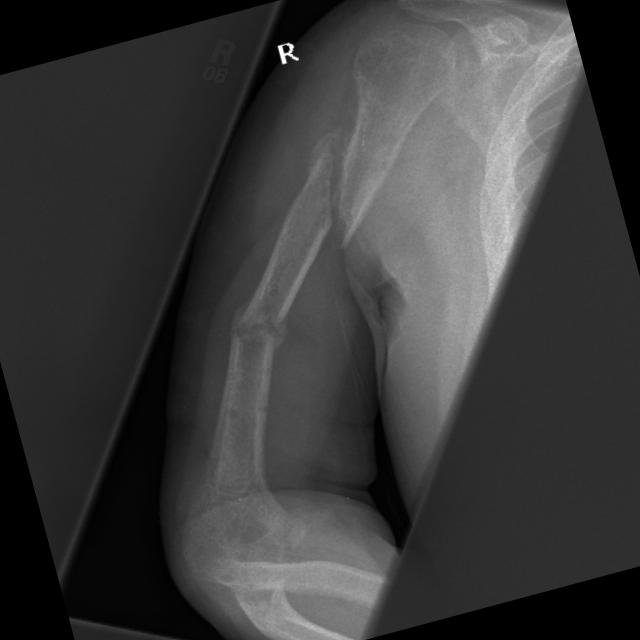humerus fracture: (193, 282, 319, 379)
